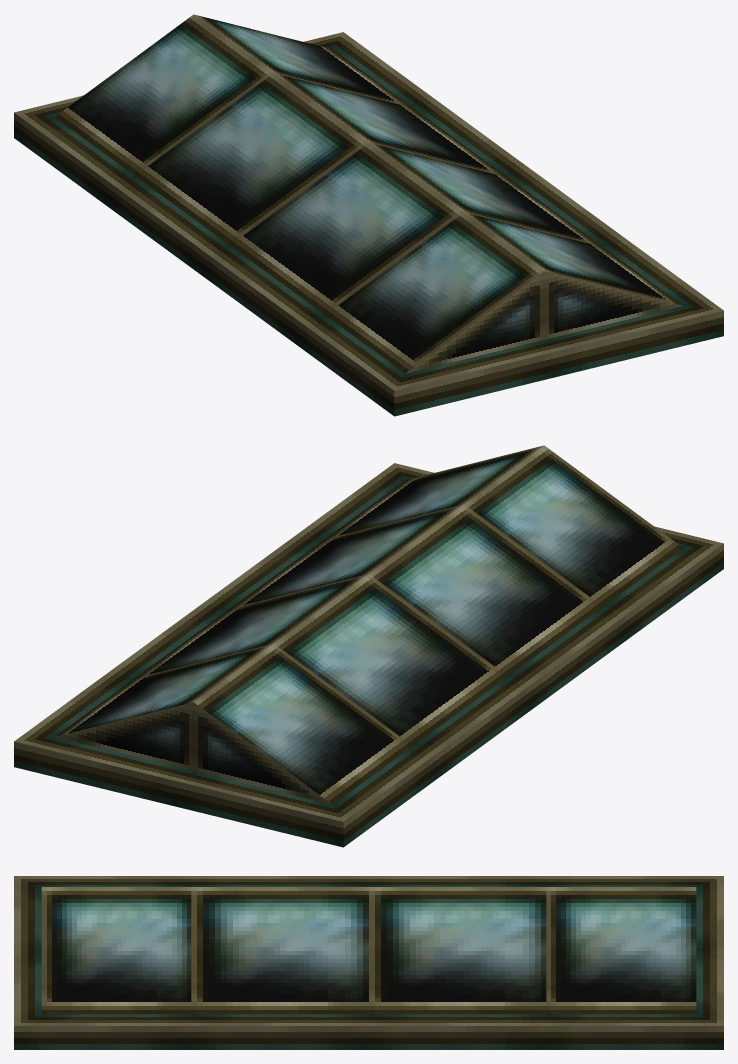
3 renders of one model, top to bottom at view 1: azimuth 30°, elevation 25°; view 2: azimuth 150°, elevation 25°; view 3: azimuth 270°, elevation 25°, orthographic. The views are drawn at different scales.
Visible parts, largest first — view 1: prim226-skylite; view 2: prim226-skylite; view 3: prim226-skylite.
Boxes of the visible parts, left/top/right/bottom form: prim226-skylite: left=14, top=14, right=723, bottom=416; prim226-skylite: left=14, top=445, right=723, bottom=847; prim226-skylite: left=14, top=876, right=723, bottom=1049.
Bounding box in the file's own units: 256 × 70 × 512.
Materials: 1 (1 with a texture image).
